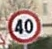limite 40: (7, 7, 41, 45)
